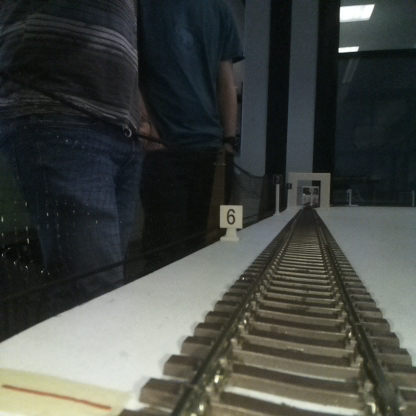black-info-7: (274, 173, 283, 213)
white-stop-6: (219, 205, 242, 241)
